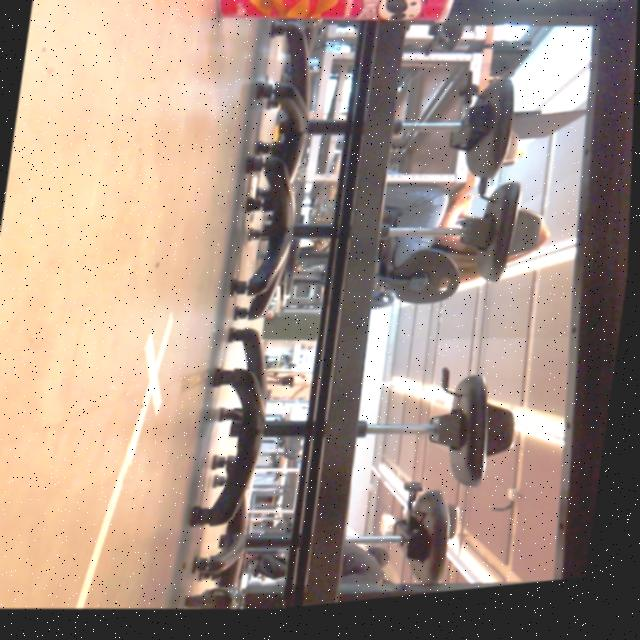redpringles: (198, 0, 470, 77)
